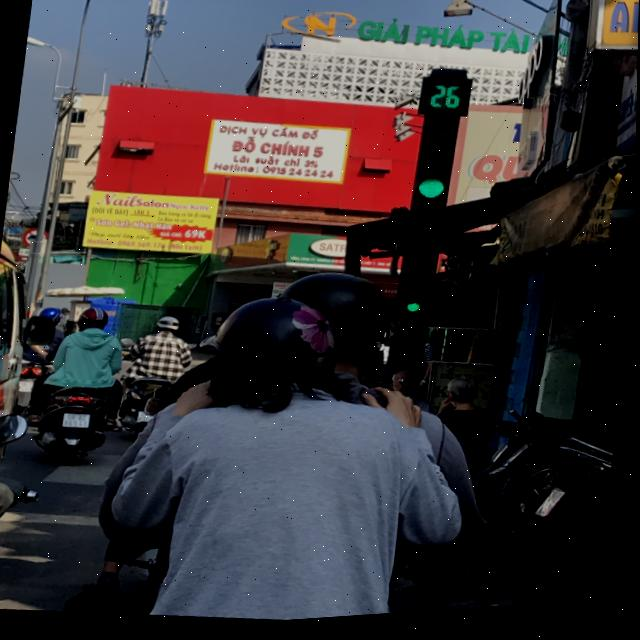Green: (408, 119, 466, 210), (392, 258, 440, 333)
